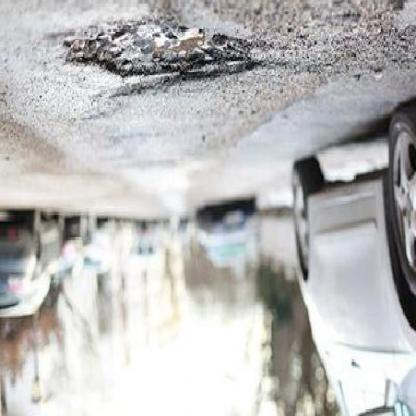pothole: (64, 18, 260, 104)
